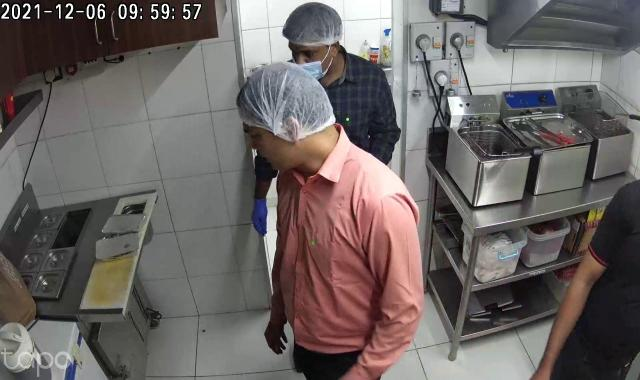hairnet: (238, 63, 338, 140), (273, 0, 351, 46)
